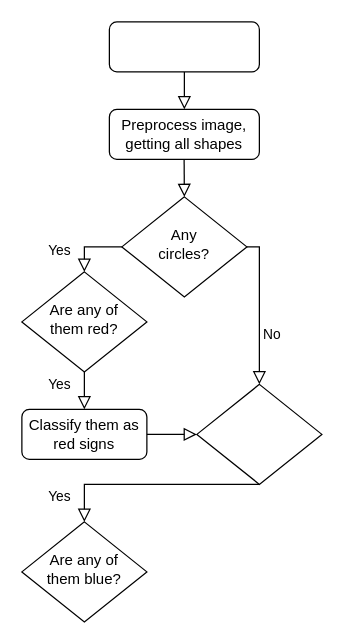
This 344x644 diagram has some shape labels left out. Each missing label, with the centre of its shape:
"Any rectangles?" belongs at (259,433).
"Image with a potential sign" belongs at (183,46).
